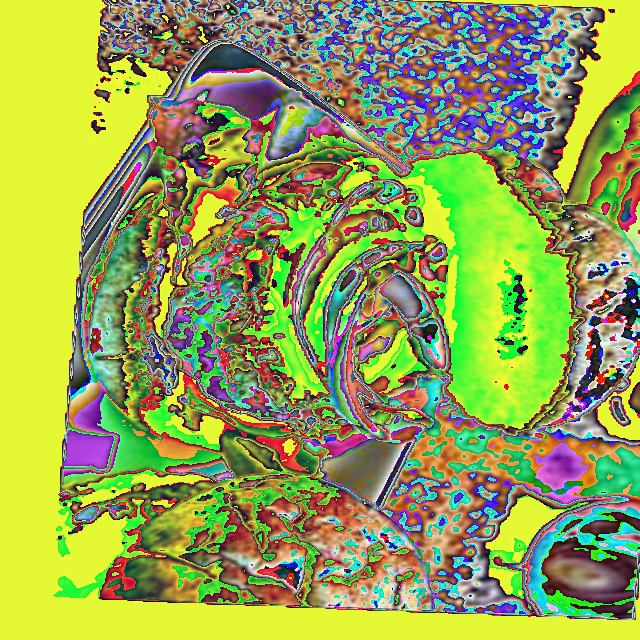background: (52, 50, 639, 611), (152, 123, 639, 619)
